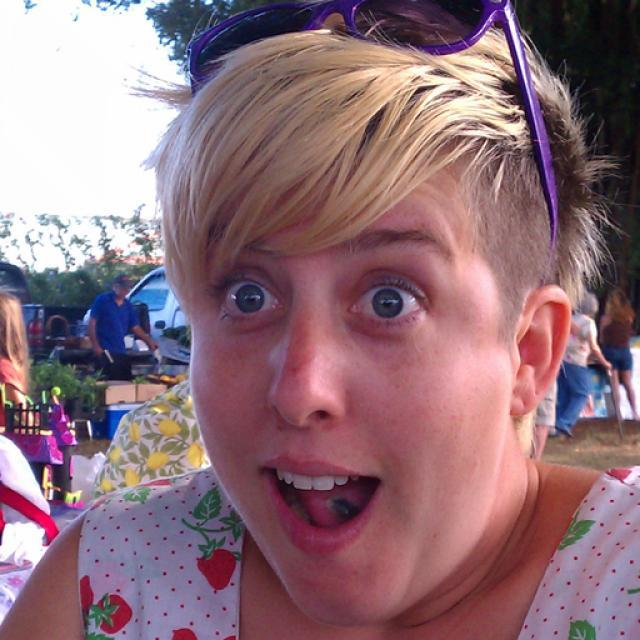surprise: (187, 110, 518, 616)
